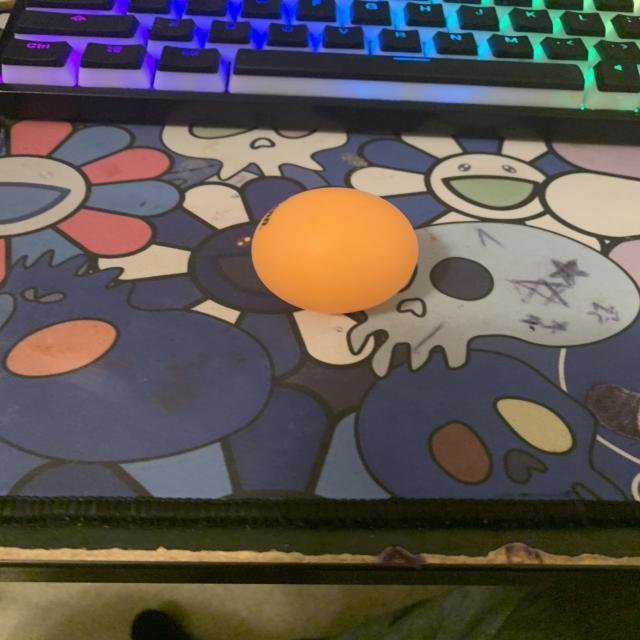ping-pong-ball: (243, 169, 424, 329)
